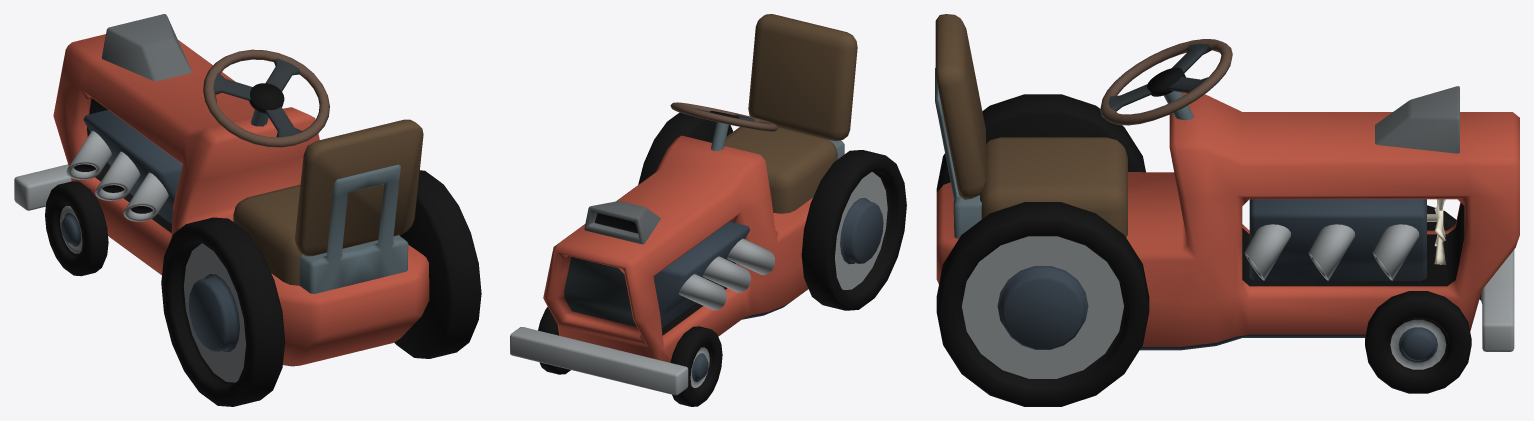
The model's file is t-bucket_tractor.fbx.
The picture shows the model from 3 angles, left to right: view 1: azimuth 30°, elevation 25°; view 2: azimuth 150°, elevation 25°; view 3: azimuth 270°, elevation 25°; orthographic projection. The views are drawn at different scales.
Parts seen in each view (by area): view 1: tbucket_tractor, tbucket_tractor_rear_left_wheel, tbucket_tractor_seat_back, tbucket_tractor_rear_right_wheel, tbucket_tractor_steering_wheel, tbucket_tractor_front_left_wheel, tbucket_tractor_seat, tbucket_tractor_hood_scoop, tbucket_tractor_exhaust, tbucket_tractor_engine, tbucket_tractor_front_bumper; view 2: tbucket_tractor, tbucket_tractor_rear_left_wheel, tbucket_tractor_seat_back, tbucket_tractor_front_bumper, tbucket_tractor_seat, tbucket_tractor_engine, tbucket_tractor_exhaust, tbucket_tractor_front_left_wheel, tbucket_tractor_hood_scoop, tbucket_tractor_rear_right_wheel, tbucket_tractor_steering_wheel, tbucket_tractor_front_right_wheel; view 3: tbucket_tractor, tbucket_tractor_rear_right_wheel, tbucket_tractor_seat, tbucket_tractor_engine, tbucket_tractor_front_right_wheel, tbucket_tractor_seat_back, tbucket_tractor_rear_left_wheel, tbucket_tractor_steering_wheel, tbucket_tractor_exhaust, tbucket_tractor_hood_scoop, tbucket_tractor_front_bumper, tbucket_tractor_engine_fan.
Boxes of the visible parts, left/top/right/bottom form: tbucket_tractor: left=53, top=34, right=429, bottom=366; tbucket_tractor_rear_left_wheel: left=161, top=217, right=285, bottom=406; tbucket_tractor_seat_back: left=295, top=119, right=423, bottom=293; tbucket_tractor_rear_right_wheel: left=394, top=170, right=481, bottom=358; tbucket_tractor_steering_wheel: left=203, top=49, right=329, bottom=147; tbucket_tractor_front_left_wheel: left=45, top=181, right=108, bottom=276; tbucket_tractor_seat: left=233, top=184, right=400, bottom=285; tbucket_tractor_hood_scoop: left=101, top=14, right=191, bottom=81; tbucket_tractor_exhaust: left=66, top=131, right=168, bottom=221; tbucket_tractor_engine: left=83, top=110, right=182, bottom=223; tbucket_tractor_front_bumper: left=14, top=164, right=71, bottom=210; tbucket_tractor: left=543, top=135, right=813, bottom=362; tbucket_tractor_rear_left_wheel: left=801, top=150, right=906, bottom=310; tbucket_tractor_seat_back: left=748, top=14, right=857, bottom=158; tbucket_tractor_front_bumper: left=510, top=327, right=688, bottom=395; tbucket_tractor_seat: left=724, top=127, right=837, bottom=213; tbucket_tractor_engine: left=654, top=221, right=749, bottom=327; tbucket_tractor_exhaust: left=679, top=238, right=774, bottom=310; tbucket_tractor_front_left_wheel: left=670, top=326, right=722, bottom=406; tbucket_tractor_hood_scoop: left=584, top=201, right=660, bottom=244; tbucket_tractor_rear_right_wheel: left=638, top=112, right=732, bottom=184; tbucket_tractor_steering_wheel: left=670, top=102, right=777, bottom=150; tbucket_tractor_front_right_wheel: left=538, top=307, right=570, bottom=374; tbucket_tractor: left=936, top=92, right=1519, bottom=350; tbucket_tractor_rear_right_wheel: left=936, top=202, right=1149, bottom=406; tbucket_tractor_seat: left=980, top=137, right=1127, bottom=237; tbucket_tractor_engine: left=1249, top=199, right=1426, bottom=280; tbucket_tractor_front_right_wheel: left=1365, top=291, right=1471, bottom=393; tbucket_tractor_seat_back: left=935, top=14, right=985, bottom=238; tbucket_tractor_rear_left_wheel: left=936, top=94, right=1145, bottom=192; tbucket_tractor_steering_wheel: left=1100, top=39, right=1232, bottom=125; tbucket_tractor_exhaust: left=1244, top=224, right=1419, bottom=280; tbucket_tractor_hood_scoop: left=1375, top=86, right=1459, bottom=153; tbucket_tractor_front_bumper: left=1479, top=250, right=1514, bottom=351; tbucket_tractor_engine_fan: left=1427, top=199, right=1445, bottom=264.
Size of the model in its own units: 0.8487 by 1.65 by 0.9561.
